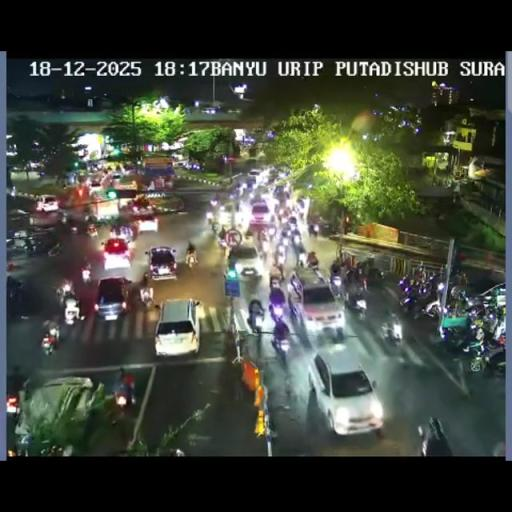Car: (308, 346, 383, 436), (14, 374, 98, 453), (294, 272, 342, 339), (154, 298, 200, 356), (94, 276, 130, 320), (230, 242, 264, 280), (146, 246, 178, 280), (102, 238, 132, 268), (145, 194, 184, 217), (248, 198, 270, 226), (215, 203, 235, 230), (136, 210, 158, 233), (34, 194, 60, 213), (90, 172, 103, 186), (248, 168, 261, 178), (110, 171, 122, 180)
Motorcycle: (267, 394, 304, 453), (399, 270, 440, 317), (439, 313, 478, 352), (420, 418, 452, 456), (480, 338, 506, 376), (379, 312, 403, 346), (270, 327, 290, 365), (113, 377, 136, 408), (346, 283, 368, 315), (62, 294, 82, 324), (268, 289, 286, 321), (6, 276, 24, 306), (463, 300, 487, 322), (306, 259, 327, 284), (490, 309, 506, 341), (6, 238, 28, 261), (247, 306, 266, 332), (363, 266, 386, 287), (40, 330, 58, 356), (449, 284, 470, 306), (329, 271, 345, 298), (95, 213, 120, 230), (288, 294, 302, 324), (290, 230, 306, 256), (15, 433, 32, 456), (139, 286, 155, 310), (54, 278, 72, 299), (468, 352, 486, 372), (353, 260, 366, 286), (116, 225, 134, 243), (290, 274, 302, 298), (42, 444, 66, 456), (84, 204, 97, 226), (47, 242, 63, 258), (184, 250, 198, 268), (276, 243, 286, 266), (24, 236, 36, 255), (454, 271, 468, 287), (333, 322, 345, 340), (81, 266, 92, 284), (86, 222, 98, 238), (270, 271, 280, 290), (236, 181, 247, 197), (345, 266, 354, 285), (218, 234, 228, 250), (259, 227, 269, 243), (298, 250, 307, 267), (60, 211, 70, 226), (204, 209, 214, 224), (210, 218, 219, 234), (311, 222, 319, 237), (210, 194, 218, 208), (142, 271, 148, 287), (69, 224, 78, 234)
